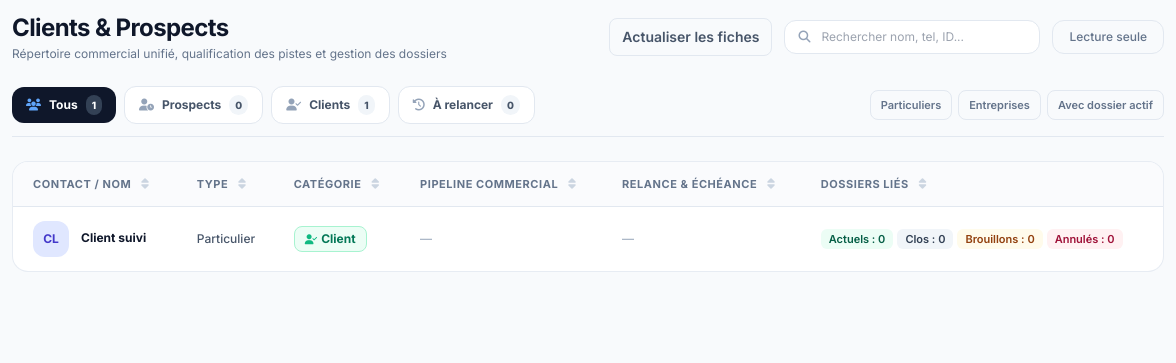
Test: Customer commercial columns › marks a failed refresh as stale and retries through the existing API
Check: the text "Actuels : 0" is shown, box [821,229,893,249]
Click the button "Actualiser les fiches".
click(691, 37)  # box [609,18,772,56]
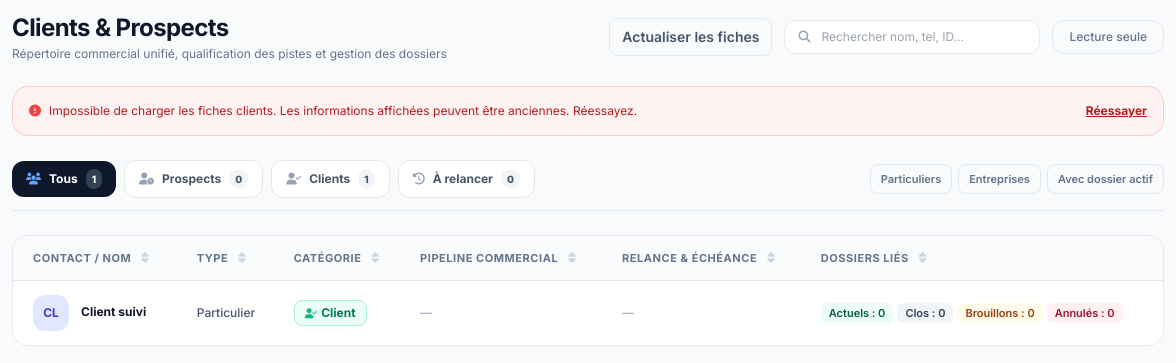
Check: the text "informations affichées peuvent être anciennes" is shown, box [49,103,637,118]
Click the button "Réessayer".
click(1116, 111)  # box [1086,103,1147,119]
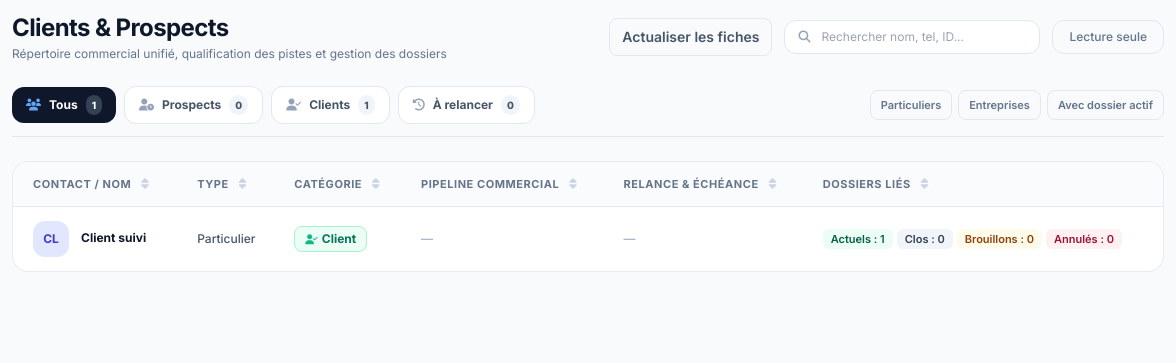
Check: the text "Actuels : 1" is shown, box [823,229,893,249]
Check: the text "informations affichées peuvent être anciennes" is gone
